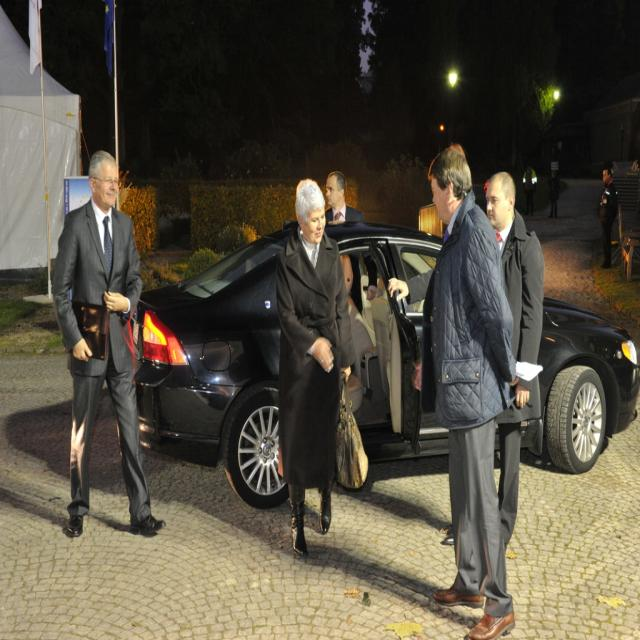other: (132, 218, 639, 518)
